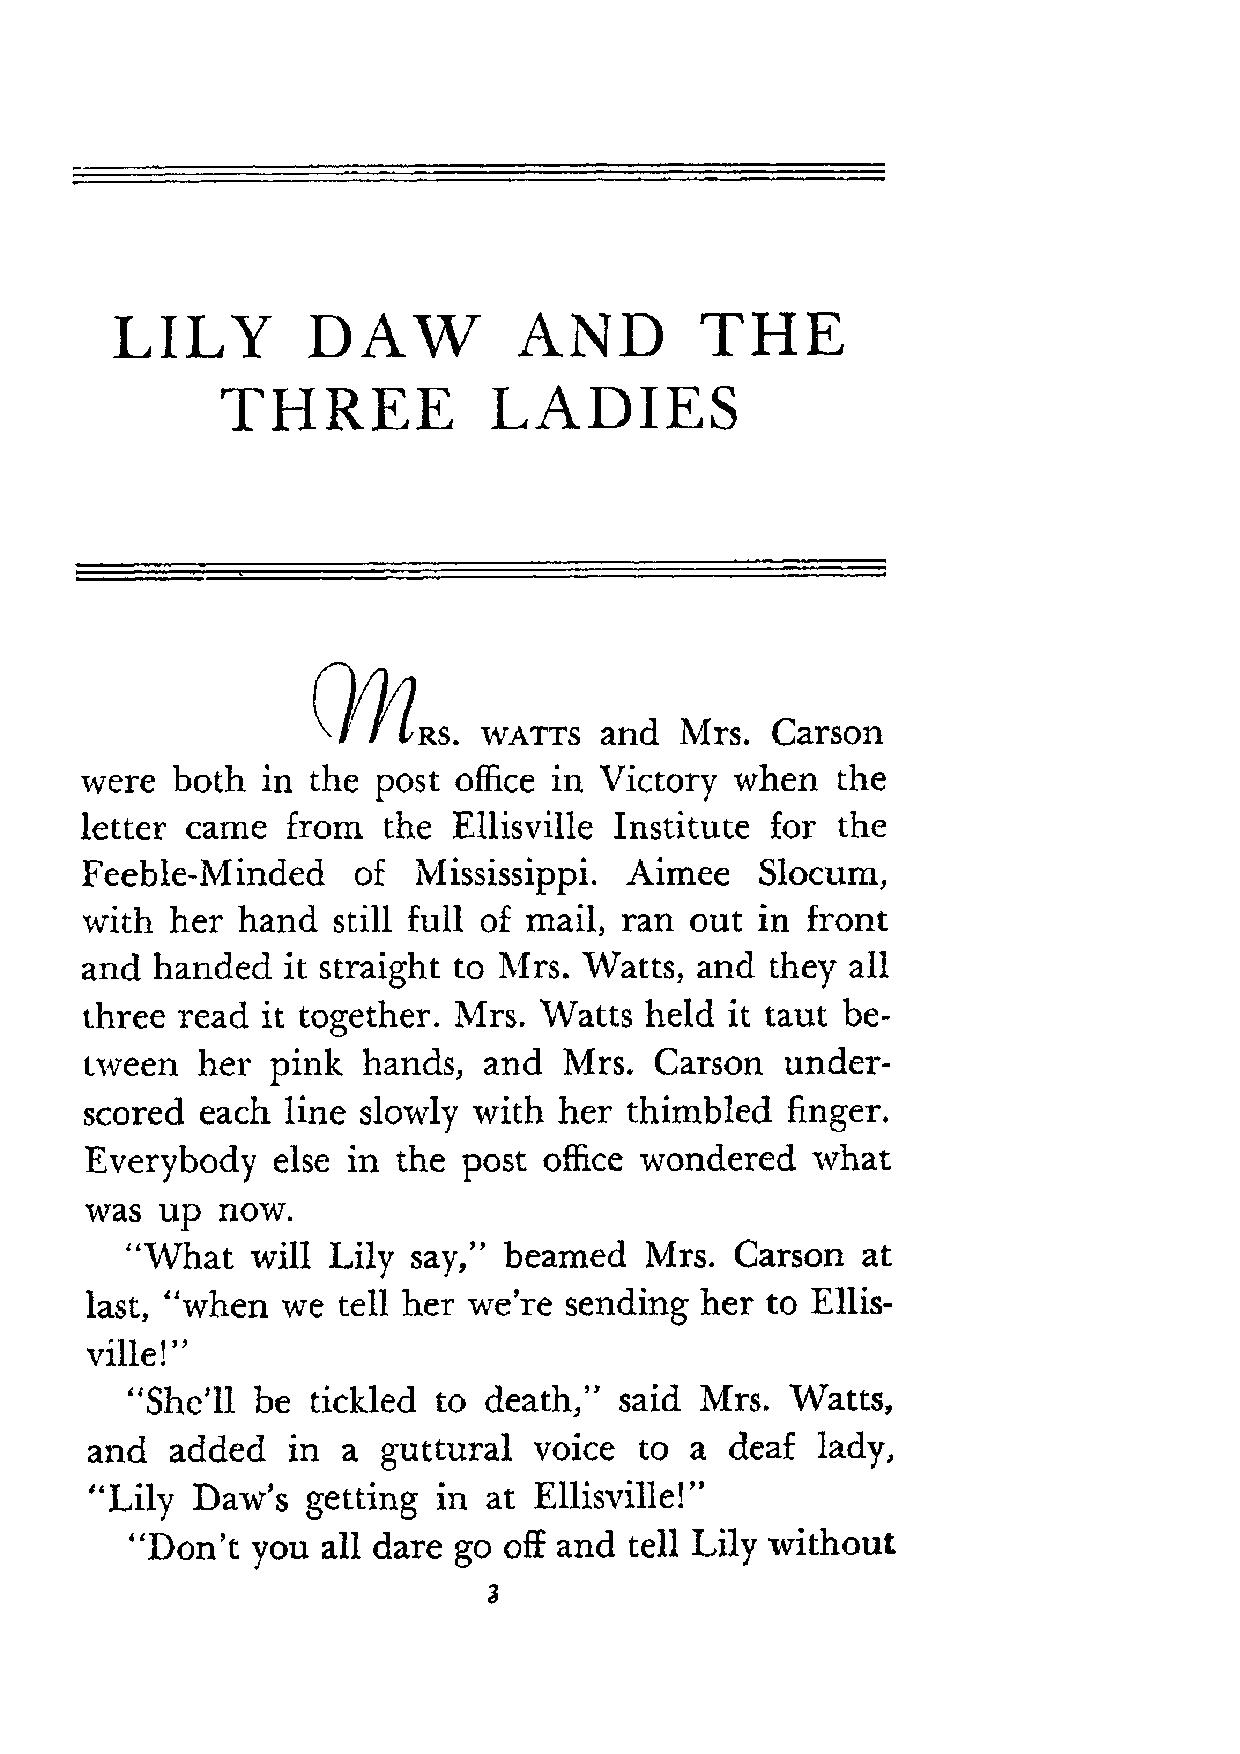chapter: (106, 309, 845, 432)
content: (78, 656, 896, 1571)
content_pagenumber: (479, 1580, 505, 1608)
